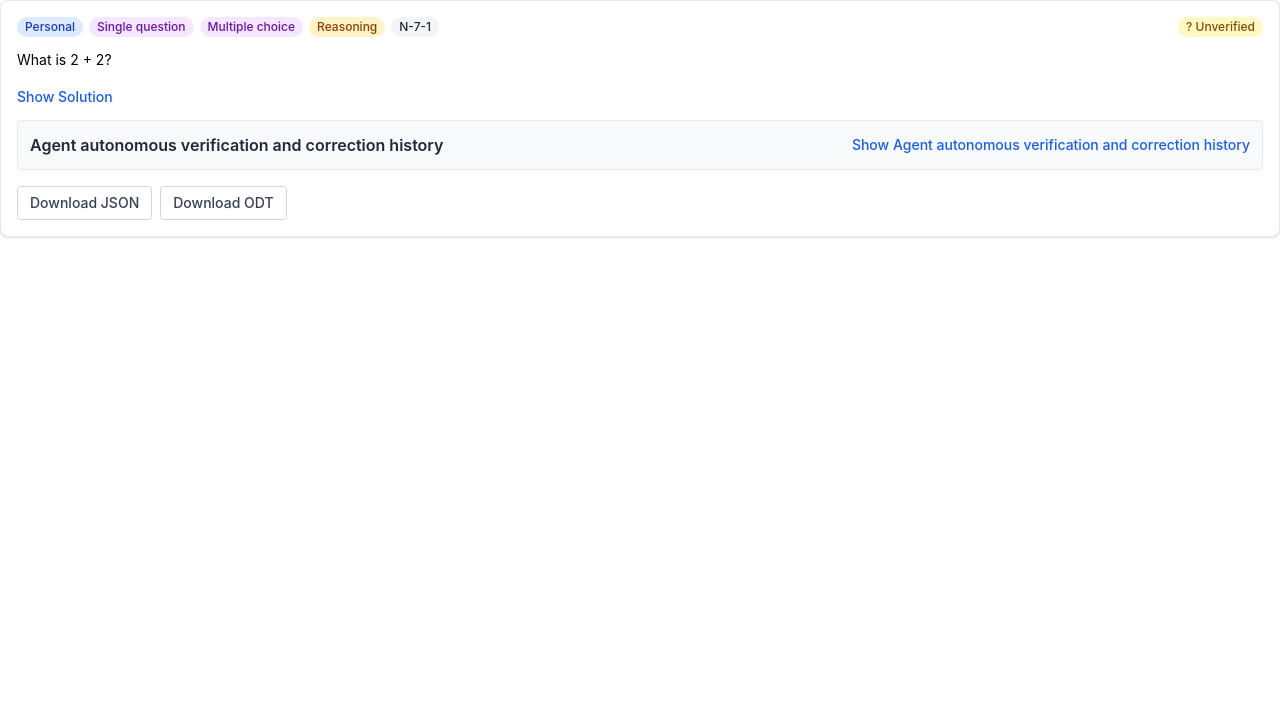
Test case: QuestionCard Agent 自主驗證修正歷程 › is collapsed by default and expands to show passed and failed verdicts
Expected: the text "The answer and explanation agree." is not shown
Click the button "Show Agent autonomous verification and correction history".
click(1051, 145)  # box [852,135,1250,155]
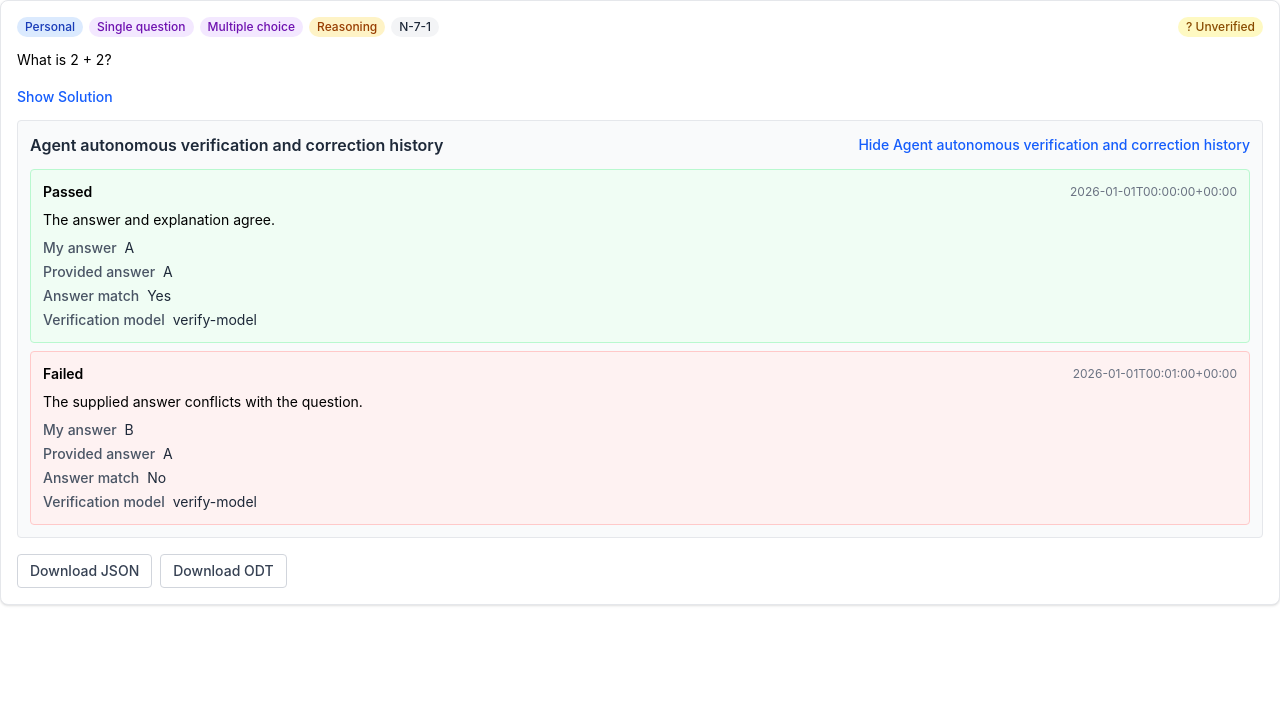
Result: the text "Passed" is shown at [43,182,92,202]
Result: the text "Failed" is shown at [43,364,83,384]
Result: the text "The answer and explanation agree." is shown at [43,211,275,228]
